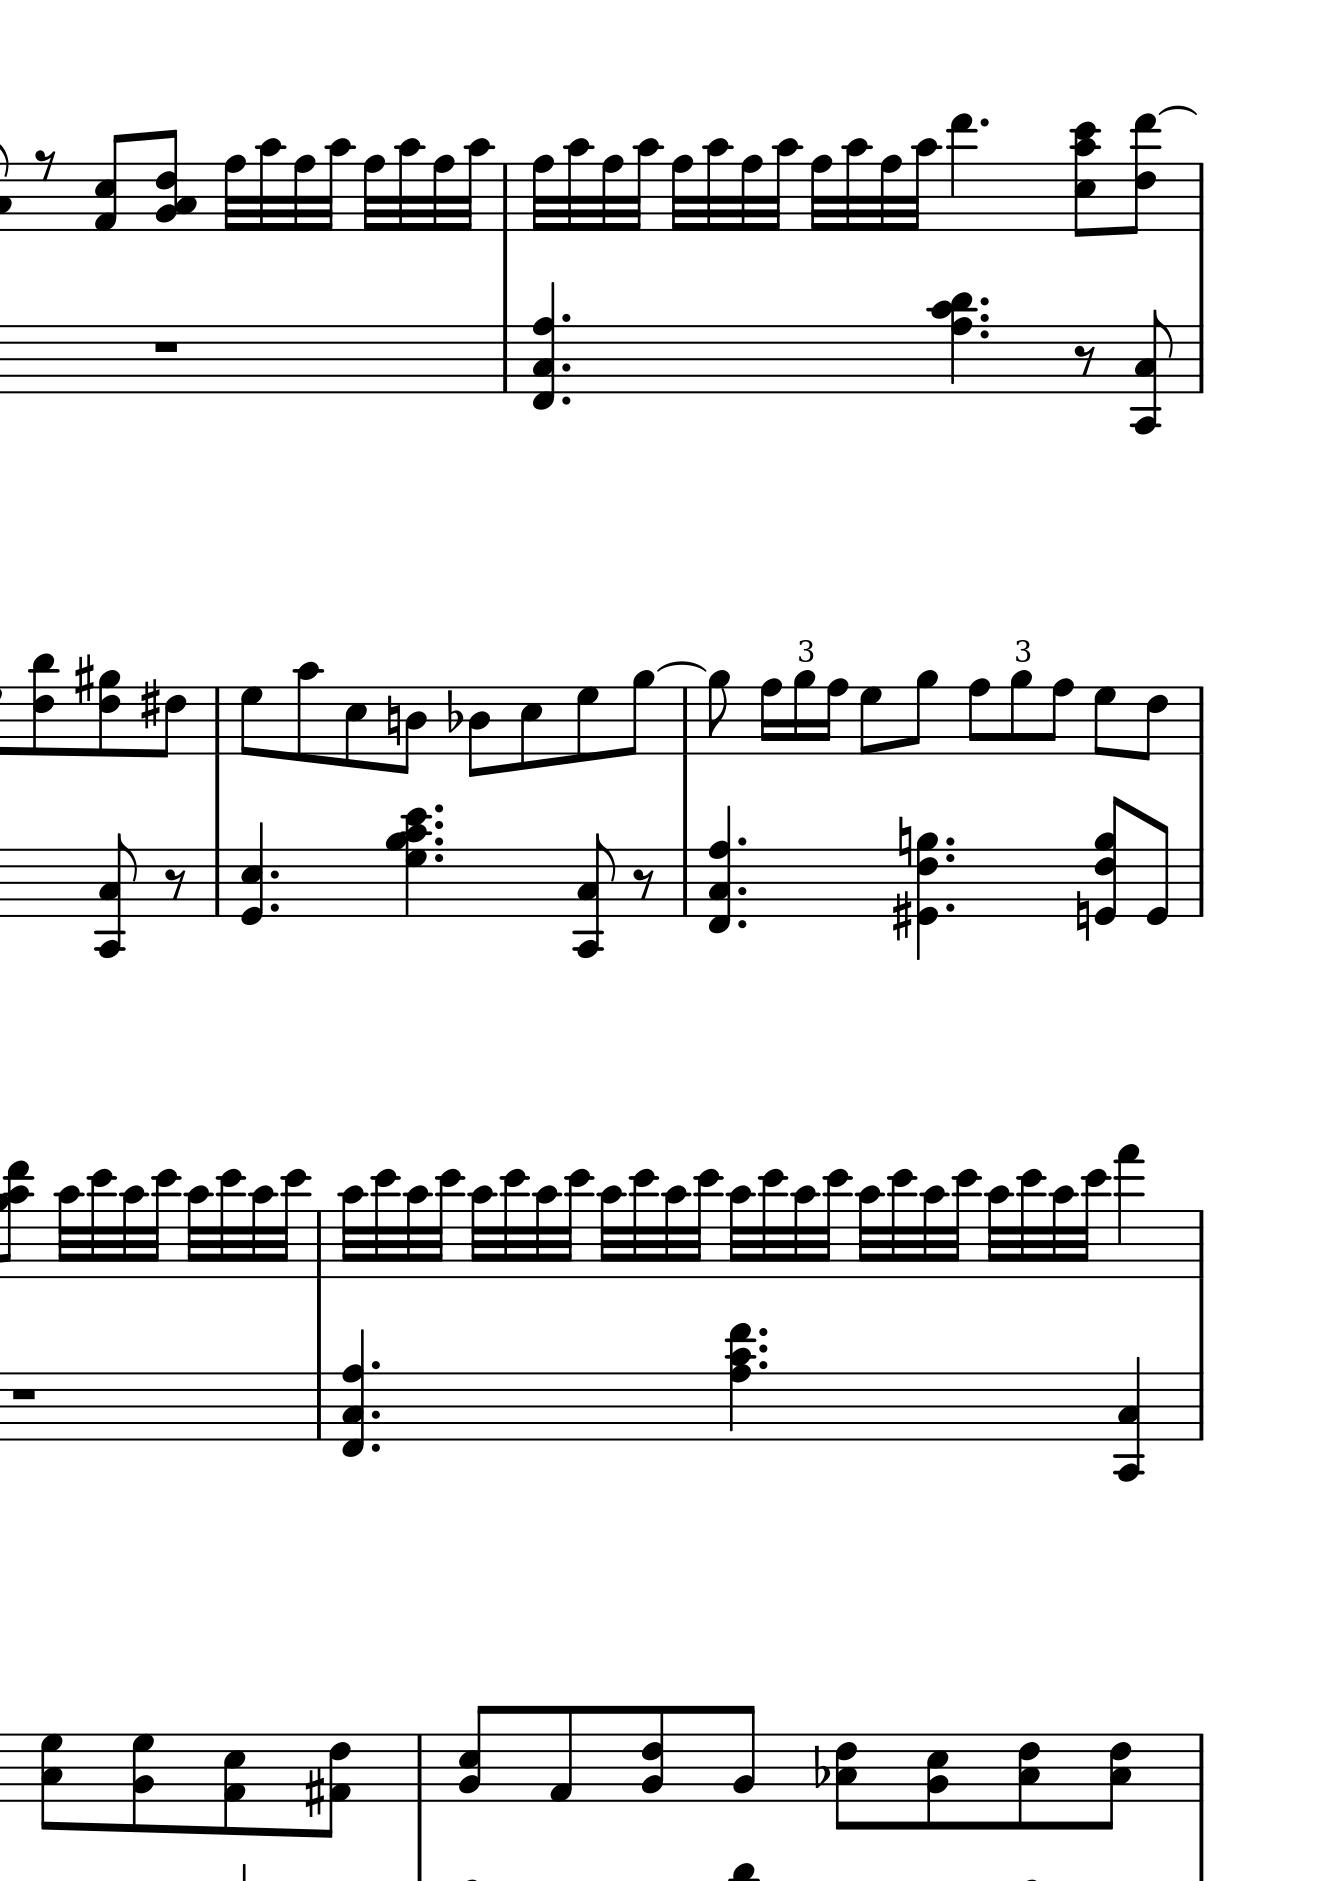16_8: (819, 678, 848, 756), (757, 676, 782, 756)
16_9: (790, 671, 816, 756)
3: (796, 638, 815, 663), (1013, 638, 1031, 663)
32_10: (820, 1169, 856, 1279), (456, 135, 494, 236), (761, 135, 800, 232), (628, 137, 664, 235), (320, 135, 354, 235), (563, 1169, 593, 1278), (700, 135, 733, 232), (253, 138, 286, 233), (394, 138, 427, 233), (52, 1184, 85, 1279), (335, 1184, 368, 1279), (594, 1184, 628, 1279), (789, 1184, 822, 1279), (852, 1184, 885, 1279), (915, 1184, 949, 1279), (1046, 1184, 1080, 1279), (399, 1184, 432, 1278), (466, 1184, 499, 1278), (659, 1186, 692, 1279), (725, 1184, 759, 1278), (910, 137, 941, 232), (117, 1184, 148, 1279), (530, 1184, 561, 1279), (982, 1184, 1013, 1279), (246, 1184, 276, 1279), (184, 1186, 213, 1279)
32_12: (687, 1169, 723, 1281), (278, 1169, 312, 1282), (213, 1169, 248, 1281), (85, 1169, 118, 1279), (433, 1169, 466, 1278), (950, 1169, 983, 1278), (150, 1169, 181, 1279), (368, 1169, 400, 1278), (628, 1169, 659, 1278), (888, 1169, 918, 1279), (759, 1169, 789, 1278), (1018, 1169, 1048, 1278), (1080, 1169, 1110, 1278), (501, 1169, 530, 1279)
32_8: (360, 154, 387, 233), (528, 154, 554, 233), (668, 154, 694, 233), (807, 154, 833, 233), (223, 153, 248, 233), (292, 154, 317, 235), (600, 154, 625, 235), (738, 153, 763, 233), (877, 153, 901, 233), (432, 153, 456, 232)
32_9: (561, 137, 592, 233), (841, 135, 869, 232)
4_-4_3: (1113, 1357, 1146, 1482)
4_0_5: (239, 822, 266, 927)
4_13: (947, 111, 974, 233)
4_15: (1114, 1143, 1144, 1279)
4_4th: (387, 802, 429, 915)
4_th: (340, 1324, 366, 1461), (705, 803, 731, 937), (725, 1317, 751, 1442), (533, 281, 557, 412)
8_-4_3: (92, 832, 138, 957), (573, 833, 617, 957), (1131, 309, 1175, 435)
8_0: (1144, 819, 1172, 930)
8_1: (547, 1703, 574, 1803)
8_10: (294, 661, 322, 764)
8_1_5: (94, 134, 130, 232), (223, 1734, 248, 1836)
8_1_6: (322, 1733, 353, 1838)
8_2: (731, 1704, 756, 1805)
8_2_5: (459, 1704, 494, 1806), (926, 1731, 951, 1831), (642, 1704, 666, 1803)
8_2_7: (131, 1731, 155, 1834)
8_3_6: (1100, 1731, 1133, 1831), (833, 1733, 859, 1834), (1018, 1733, 1044, 1831)
8_3_7: (39, 1733, 68, 1831)
8_4: (396, 685, 426, 777), (465, 685, 489, 779)
8_5: (518, 684, 543, 771), (343, 684, 367, 770)
8_6: (1137, 685, 1169, 761), (155, 685, 187, 758)
8_6_13: (1126, 114, 1160, 235)
8_7: (237, 685, 263, 758), (574, 685, 599, 763), (1092, 685, 1117, 758), (858, 686, 882, 756)
8_8: (1041, 676, 1074, 756), (964, 676, 990, 756)
8_9: (620, 671, 653, 757), (905, 669, 938, 756), (1008, 669, 1033, 756), (705, 669, 730, 757)
8_th: (1095, 793, 1130, 928), (155, 127, 194, 235), (1068, 117, 1098, 240), (829, 1733, 861, 1834)
Flat: (445, 686, 463, 735), (810, 1744, 829, 1792)
Natural: (1072, 888, 1091, 943), (384, 692, 402, 747), (895, 815, 913, 866)
Rests1: (7, 1382, 40, 1405), (150, 335, 181, 357)
Rests8: (32, 145, 58, 183), (163, 865, 189, 901), (630, 866, 656, 902), (1072, 343, 1097, 379)
Sharp: (71, 652, 95, 707), (301, 1766, 324, 1819), (890, 889, 911, 943), (138, 676, 158, 731)
Single_barline: (494, 163, 515, 230), (309, 1210, 330, 1277), (1190, 163, 1209, 230), (1190, 686, 1209, 754), (309, 1373, 328, 1441), (1190, 1373, 1209, 1441), (410, 1734, 429, 1802), (495, 327, 514, 393), (1190, 1736, 1209, 1802), (1190, 849, 1208, 917), (1192, 1210, 1209, 1278), (1190, 327, 1208, 393), (207, 851, 225, 915), (675, 851, 692, 915), (209, 688, 225, 756), (677, 689, 692, 756)
Slur: (655, 661, 708, 675), (1159, 105, 1196, 117)
dot: (757, 1327, 772, 1367), (976, 117, 990, 131), (558, 361, 573, 376), (558, 393, 573, 407), (430, 851, 445, 865), (266, 899, 281, 914), (941, 899, 956, 914), (368, 1441, 383, 1455), (430, 835, 446, 848), (941, 851, 957, 864), (736, 917, 748, 933), (977, 295, 990, 309), (977, 312, 992, 325), (976, 328, 990, 341), (430, 802, 445, 815), (941, 835, 956, 848), (268, 866, 281, 881), (756, 1325, 770, 1338), (757, 1341, 770, 1356), (368, 1359, 383, 1372), (756, 1359, 770, 1372), (368, 1408, 383, 1420), (432, 819, 448, 830), (558, 312, 571, 324), (736, 884, 747, 897), (736, 836, 747, 848)
